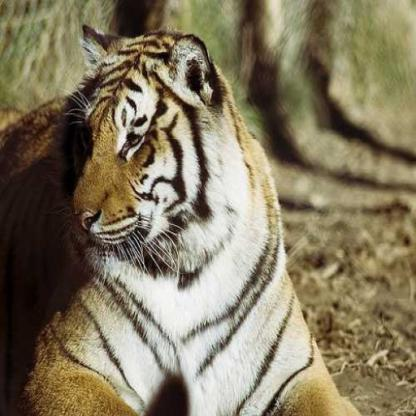Tiger: (0, 18, 361, 415)
